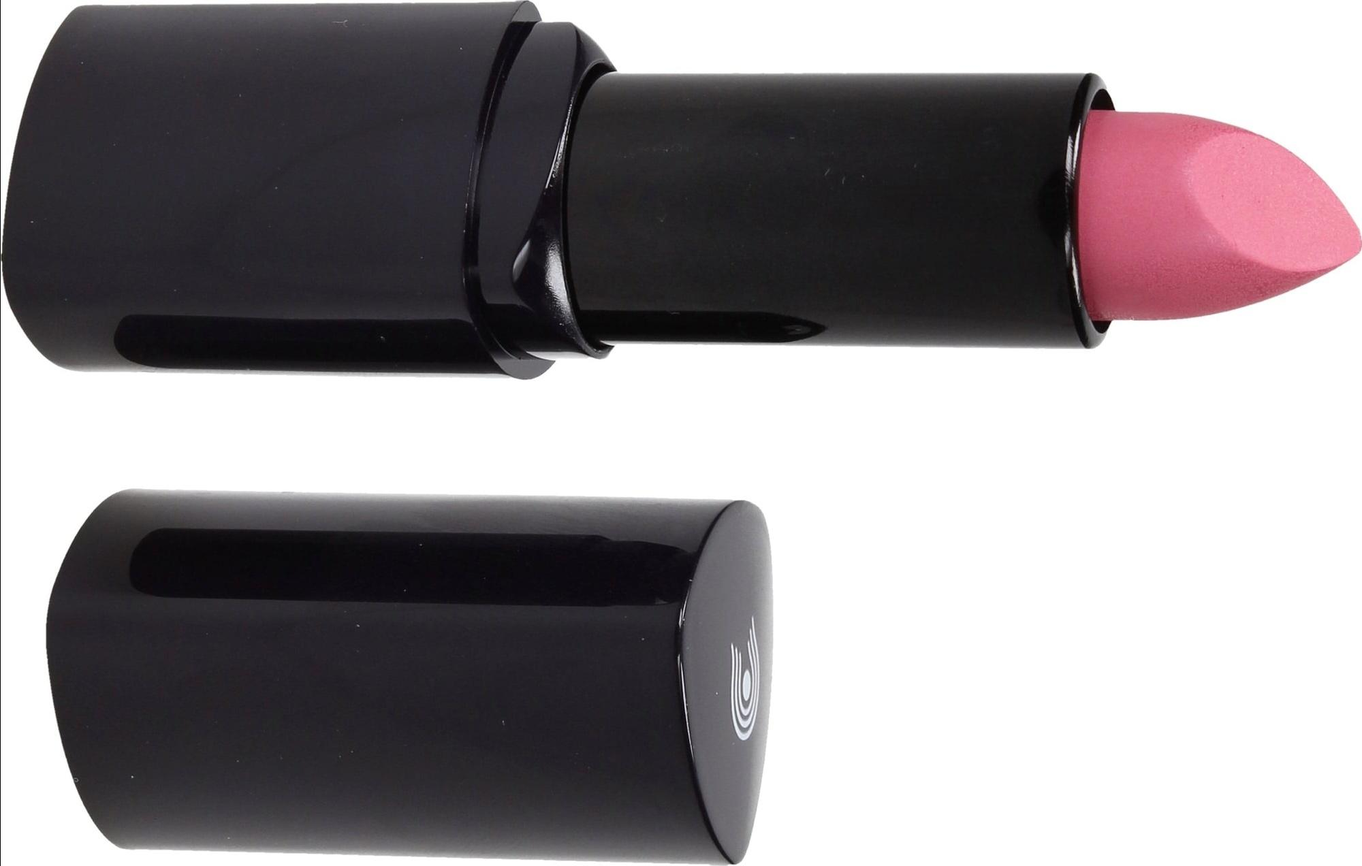lipstick: (18, 0, 1362, 415)
